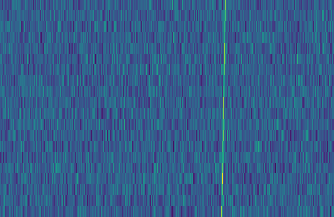signal: (218, 0, 230, 217)
